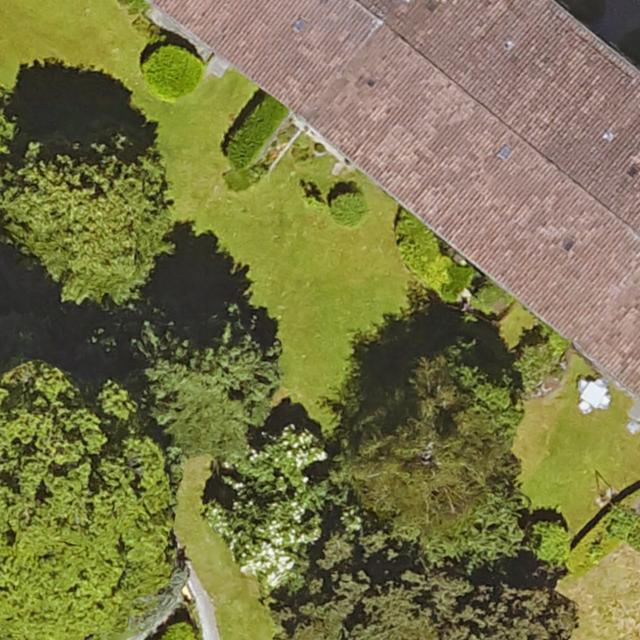tree: (1, 364, 172, 638), (344, 352, 519, 552), (0, 137, 172, 295), (287, 564, 572, 640), (139, 311, 277, 456), (216, 444, 352, 587), (514, 342, 564, 394), (146, 50, 200, 97), (527, 521, 570, 566), (332, 194, 369, 228)
